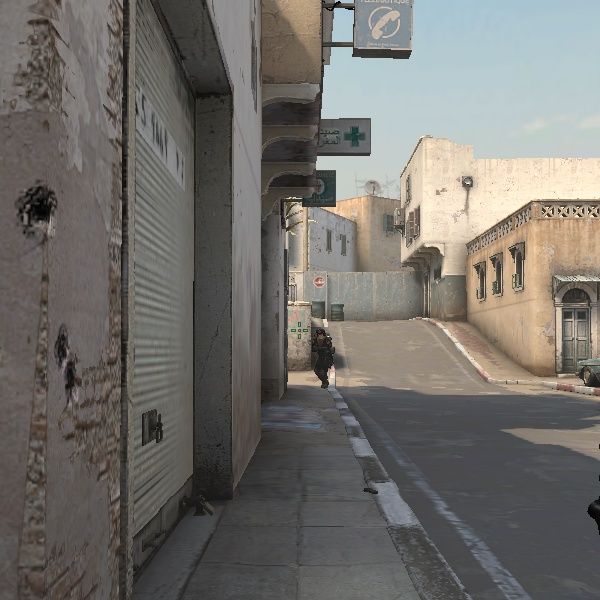t_body: (307, 322, 341, 389)
